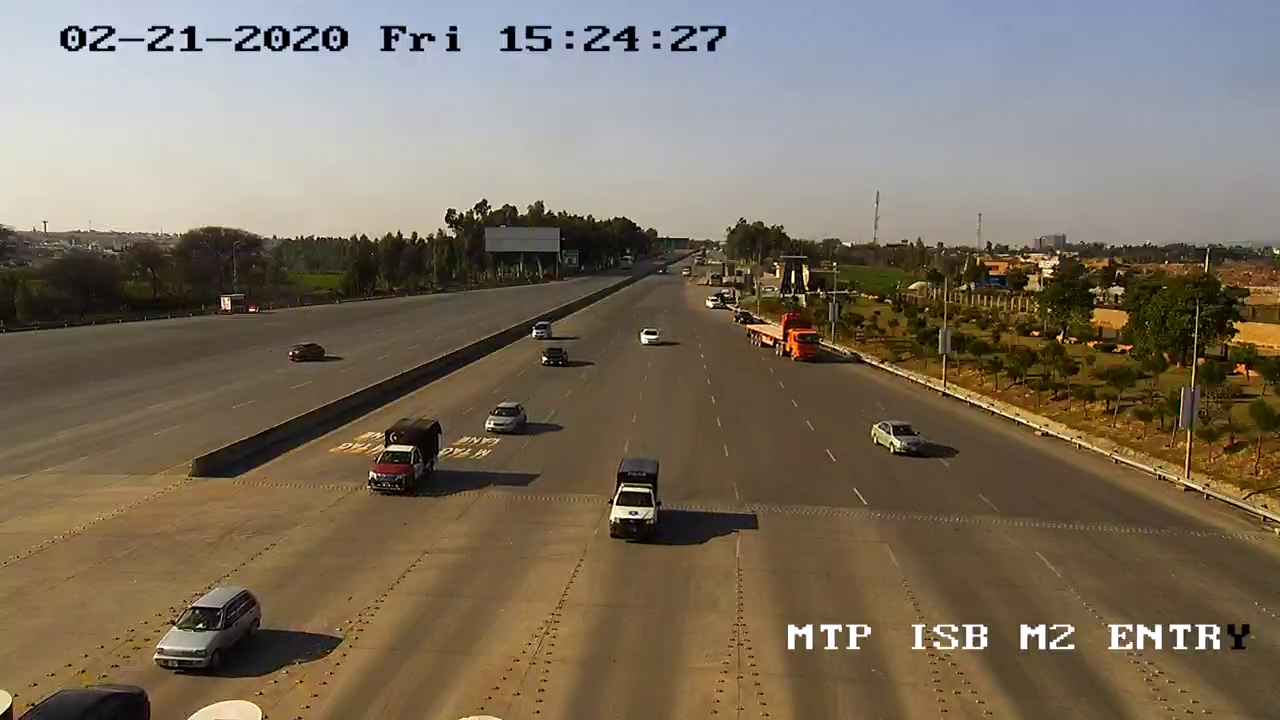f1: (151, 577, 271, 680), (356, 412, 448, 501), (599, 451, 669, 545)
